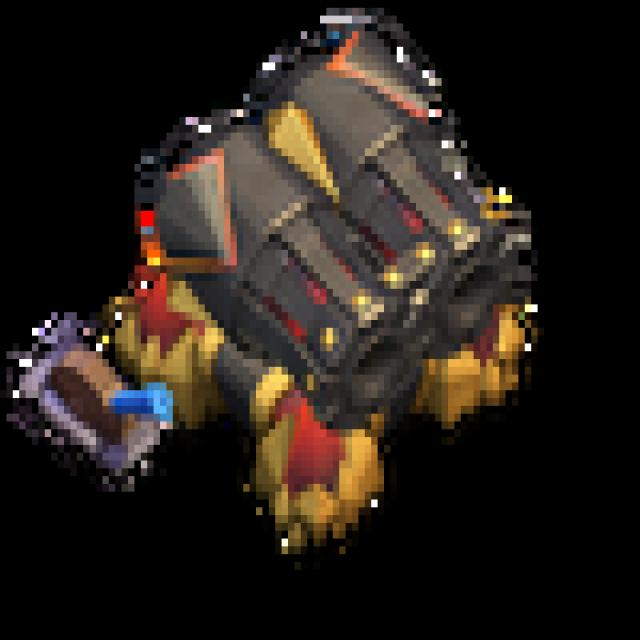cannon: (6, 18, 580, 593)
